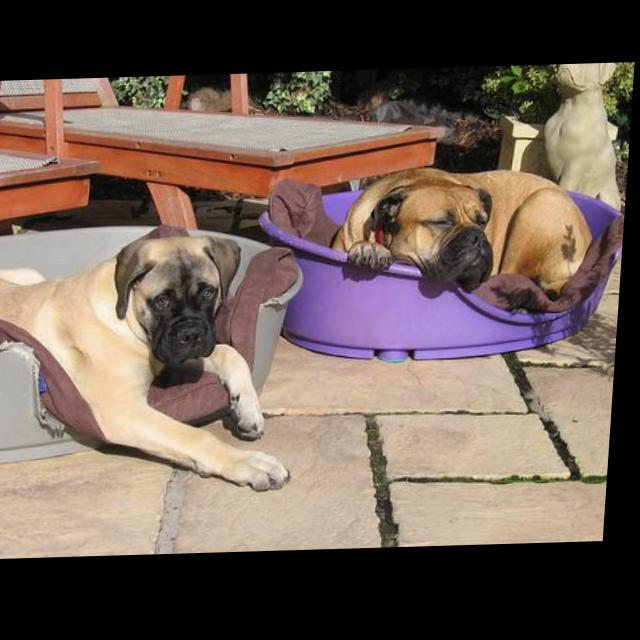bullmastiff: (1, 220, 313, 500), (332, 165, 603, 307)
